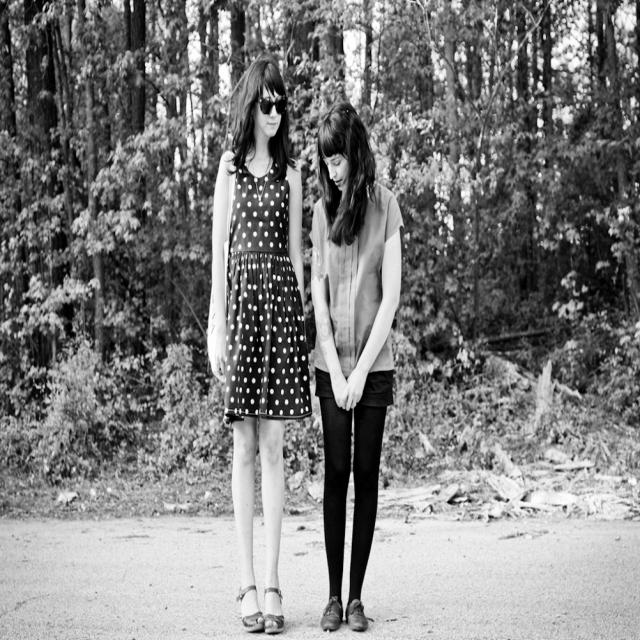Glasses: (250, 90, 291, 120), (259, 98, 285, 120)
